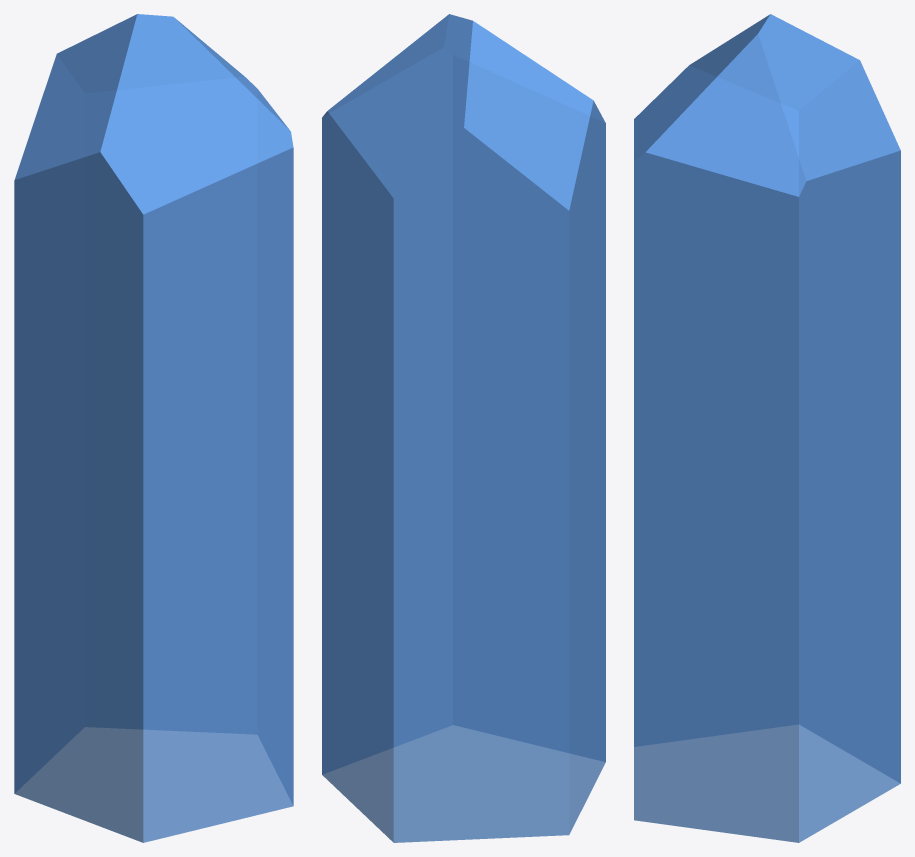
Rendered from Crystal_s_03.fbx.
The picture shows the model from 3 angles, left to right: view 1: azimuth 30°, elevation 25°; view 2: azimuth 150°, elevation 25°; view 3: azimuth 270°, elevation 25°; orthographic projection.
Visible parts, largest first — view 1: Crystal_s_03; view 2: Crystal_s_03; view 3: Crystal_s_03.
Part boxes in pixels (left/top/right/bottom): Crystal_s_03: left=14, top=14, right=293, bottom=842; Crystal_s_03: left=322, top=14, right=605, bottom=842; Crystal_s_03: left=634, top=14, right=900, bottom=842.
Size of the model in its own units: 19.21 by 57.7 by 18.27.
